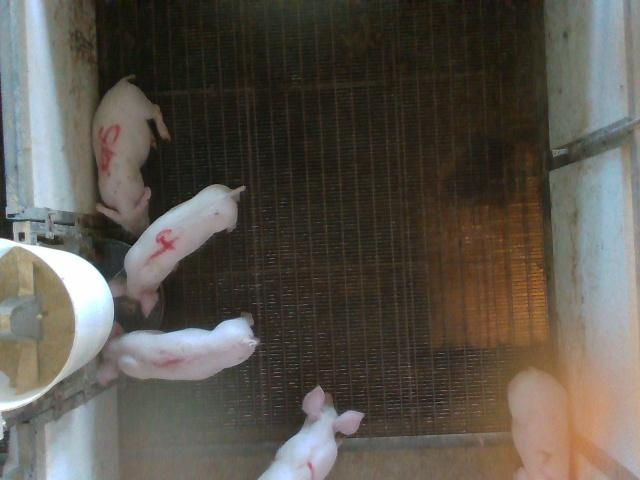pig-1: (98, 315, 259, 384)
pig-4: (109, 184, 243, 316)
pig-5: (92, 75, 171, 236)
